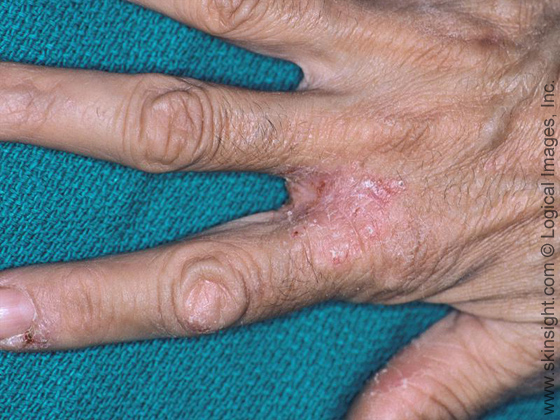Diseased: (111, 100, 443, 345)
